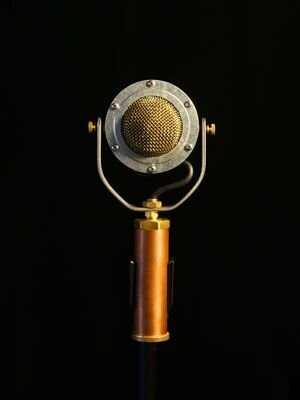microphone: (84, 76, 219, 348)
